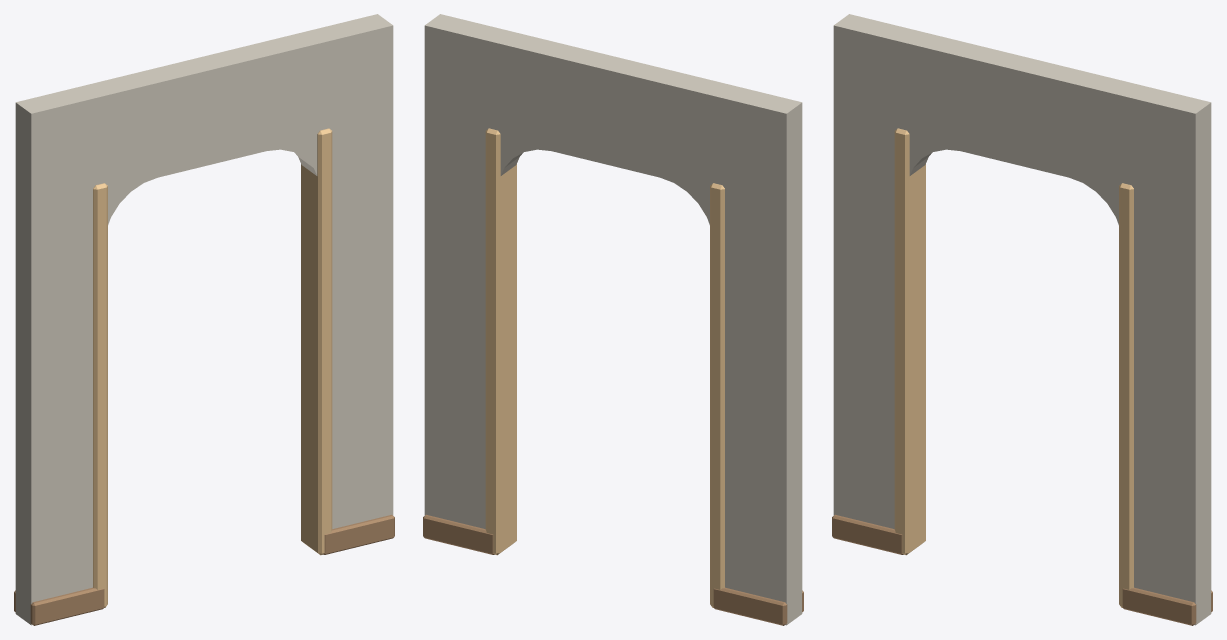
Rendered from cozy-home-interiors-wall-arch-opening-2m-bb7cb377.glb.
3 views of the same model, side by side, from view 1: azimuth 30°, elevation 25°; view 2: azimuth 150°, elevation 25°; view 3: azimuth 330°, elevation 25° (orthographic).
Visible parts, largest first — view 1: wall-arch-opening-2m; view 2: wall-arch-opening-2m; view 3: wall-arch-opening-2m.
Part boxes in pixels (box(x1,y1,x2,y2)): wall-arch-opening-2m: box(14, 14, 394, 625); wall-arch-opening-2m: box(423, 14, 803, 625); wall-arch-opening-2m: box(832, 14, 1212, 625).
Bounding box in the file's own units: 2 × 2.7 × 0.1951.
